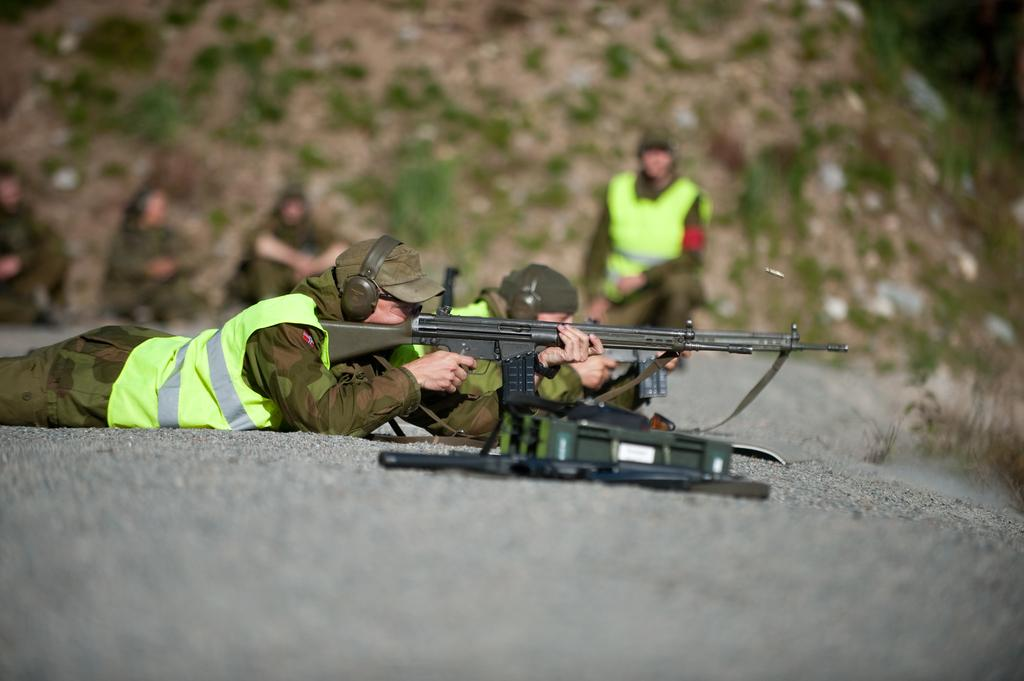Rifle: (281, 278, 831, 474)
